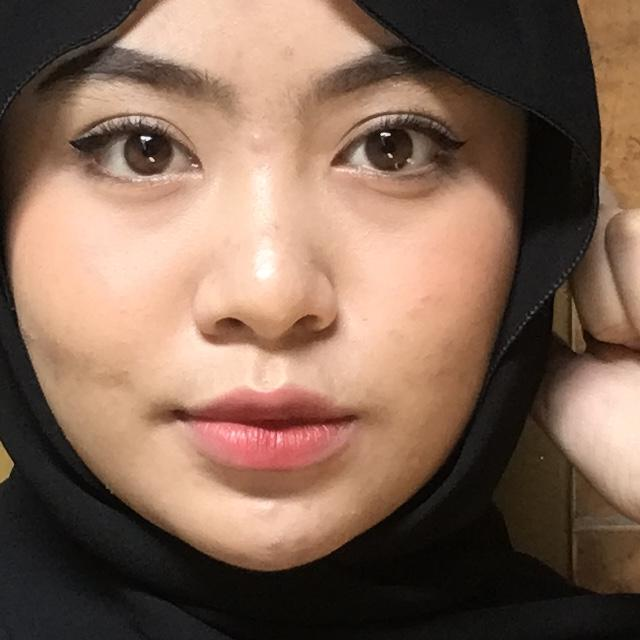ibu: (510, 156, 640, 640)
